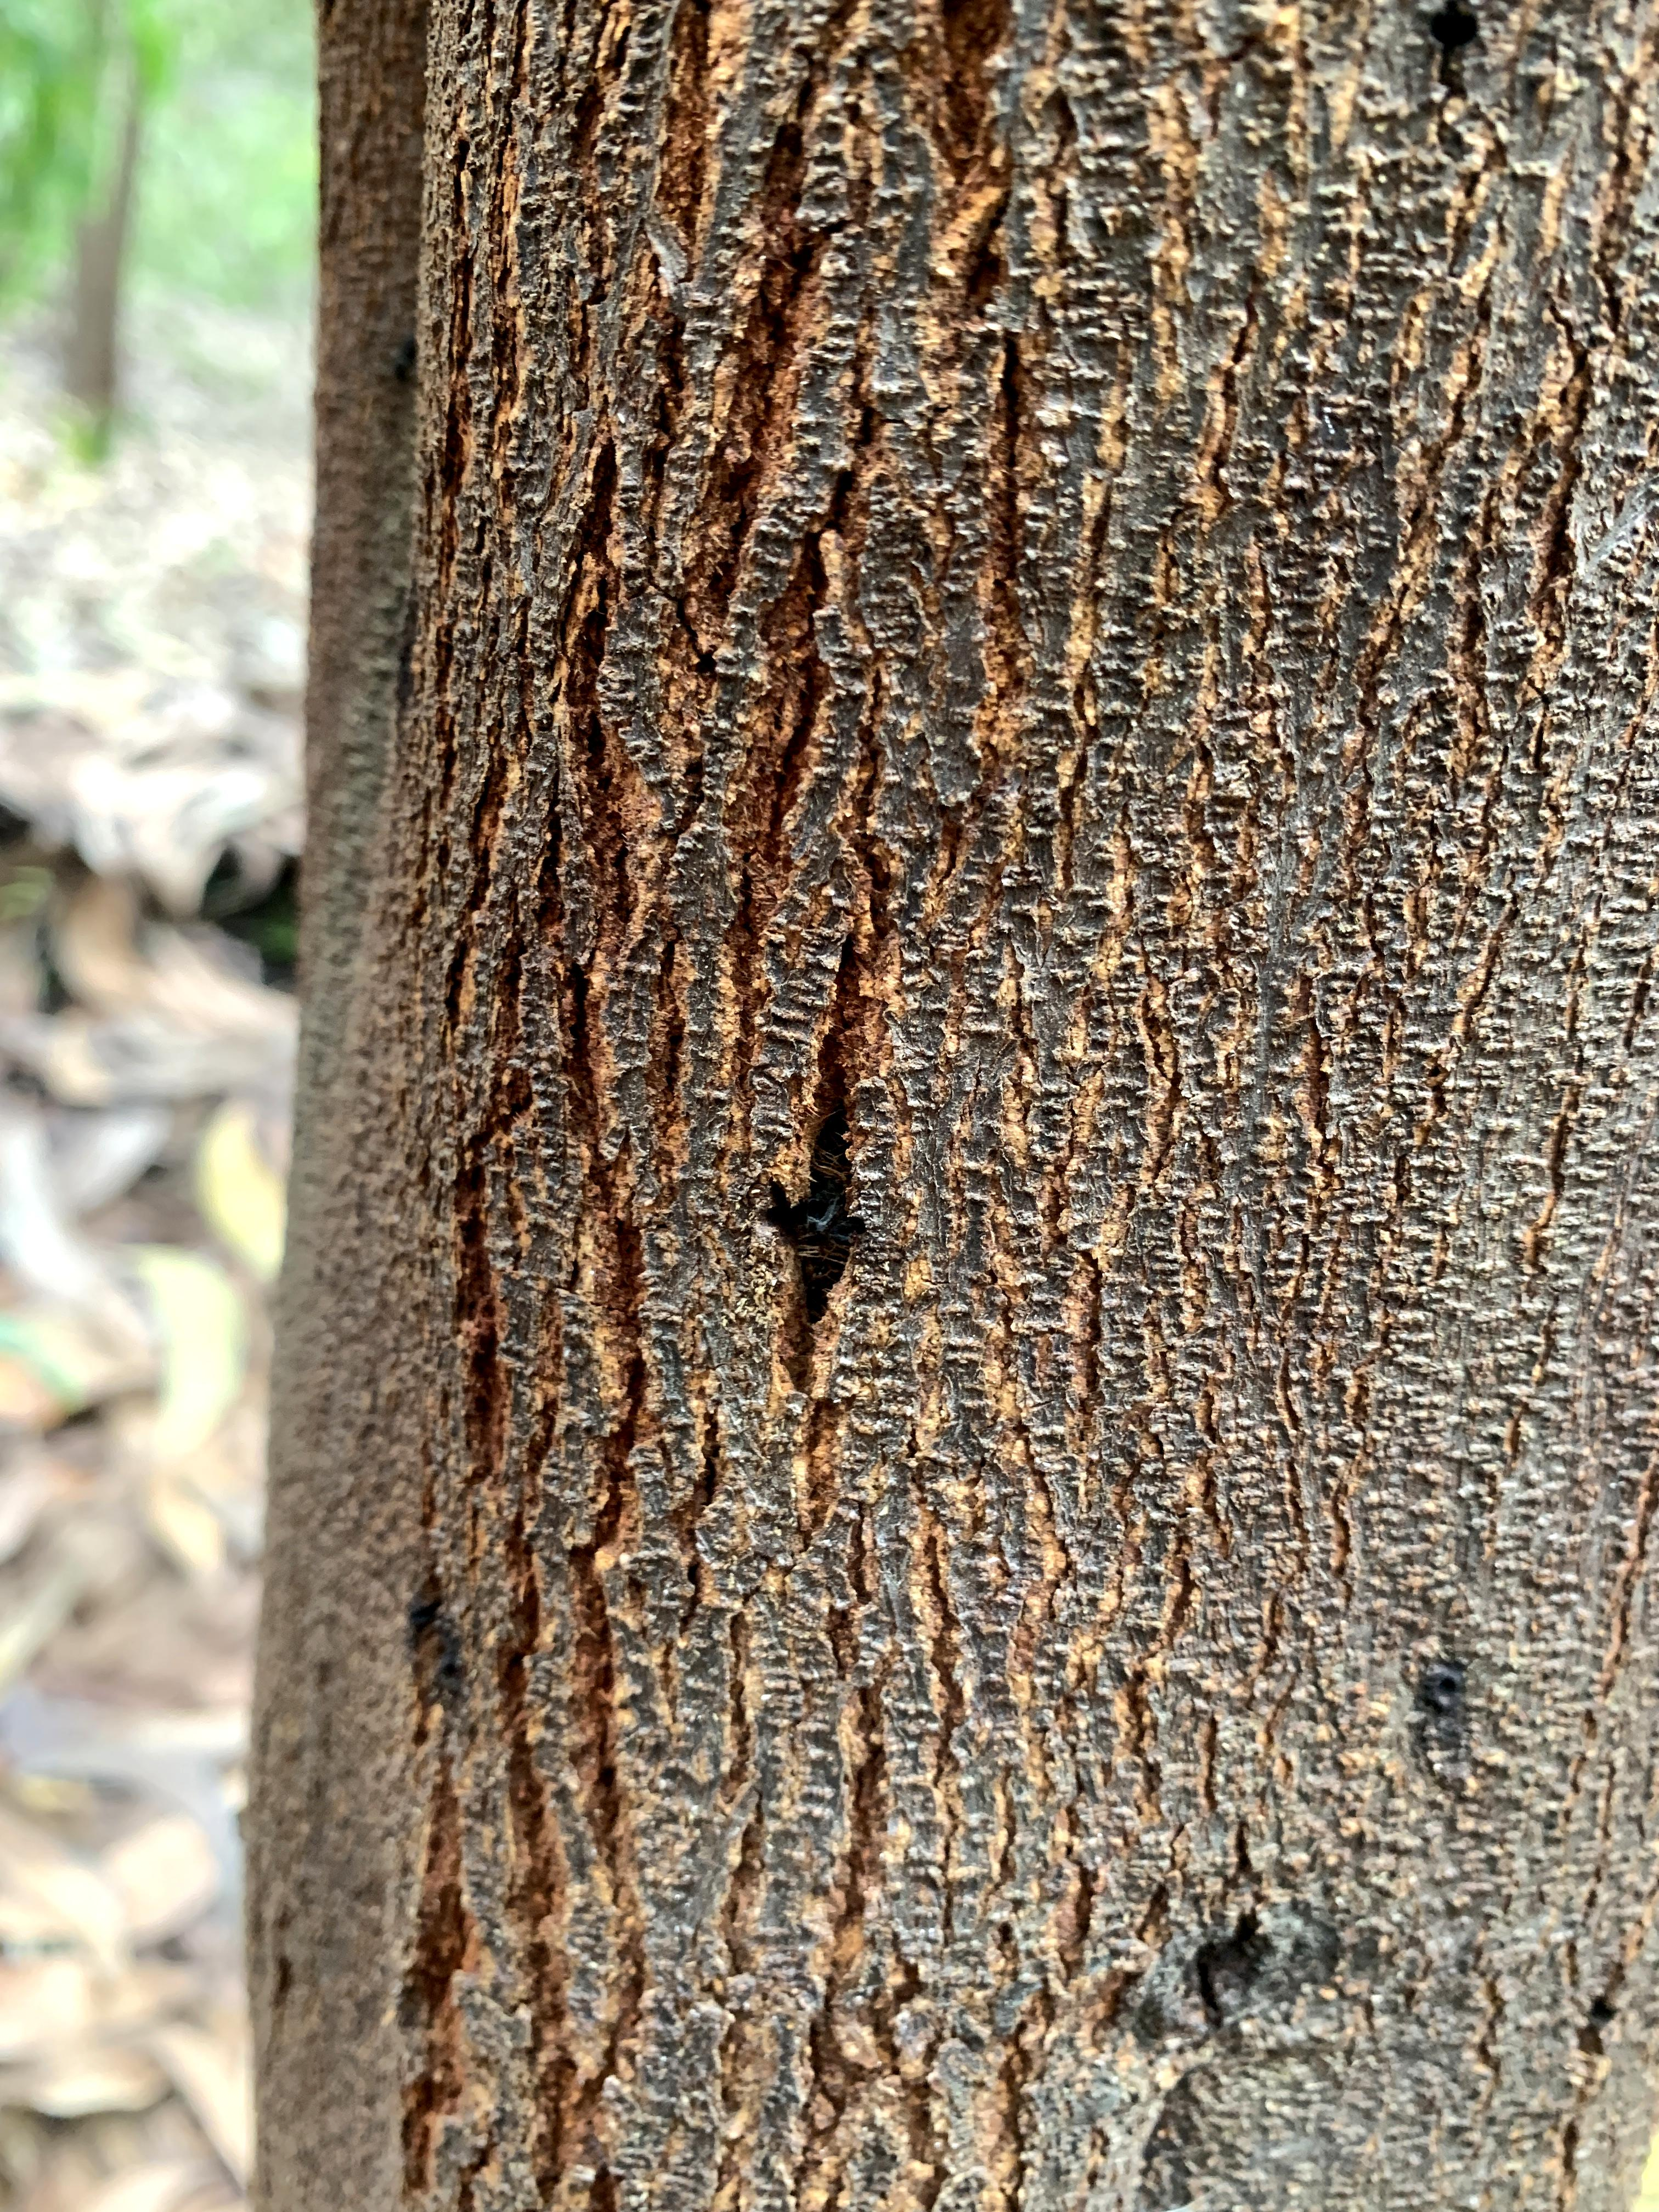Stem Borer: (714, 1015, 943, 1524), (1131, 1817, 1415, 2209), (1340, 1587, 1539, 1831), (1279, 0, 1588, 143), (342, 1538, 516, 1764)
